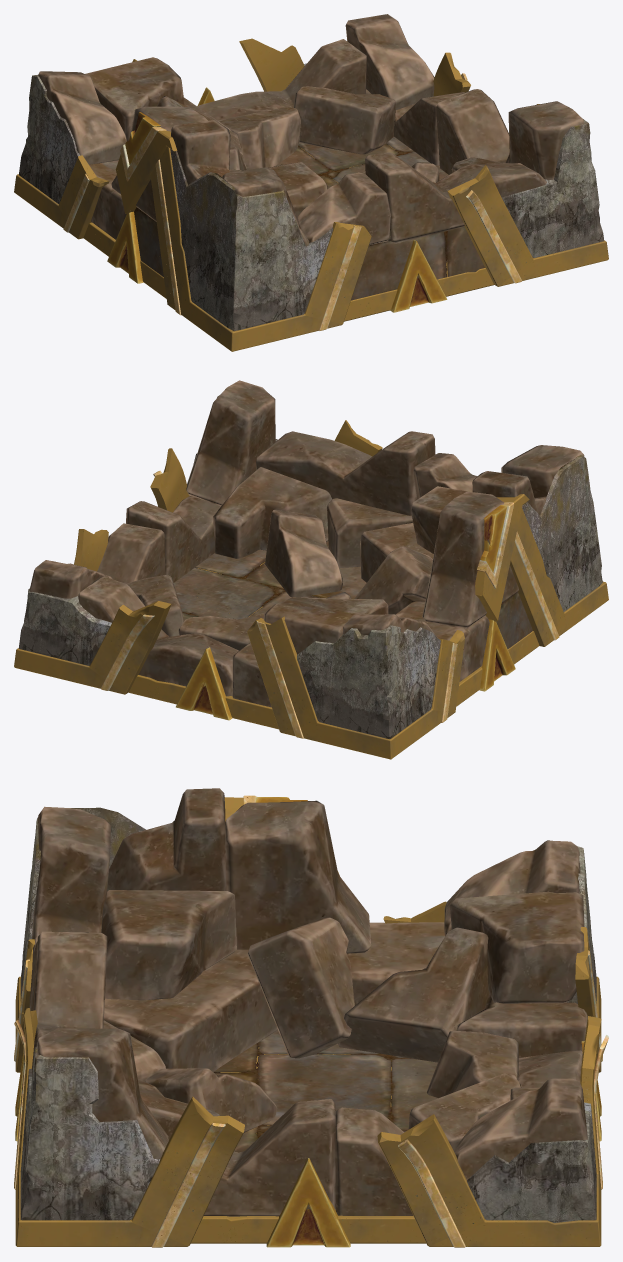
3 views of the same model, one above another, from view 1: azimuth 30°, elevation 25°; view 2: azimuth 150°, elevation 25°; view 3: azimuth 270°, elevation 25° (orthographic). The views are drawn at different scales.
Parts seen in each view (by area): view 1: SM_DK_16m_TowerMid_02_LOD0; view 2: SM_DK_16m_TowerMid_02_LOD0; view 3: SM_DK_16m_TowerMid_02_LOD0.
Part boxes in pixels (box(x1,y1,x2,y2)): SM_DK_16m_TowerMid_02_LOD0: box(14, 14, 608, 351); SM_DK_16m_TowerMid_02_LOD0: box(14, 380, 608, 759); SM_DK_16m_TowerMid_02_LOD0: box(14, 788, 608, 1247).
Size of the model in its own units: 6.39 by 2.69 by 6.45.
5 materials, 5 textured.
